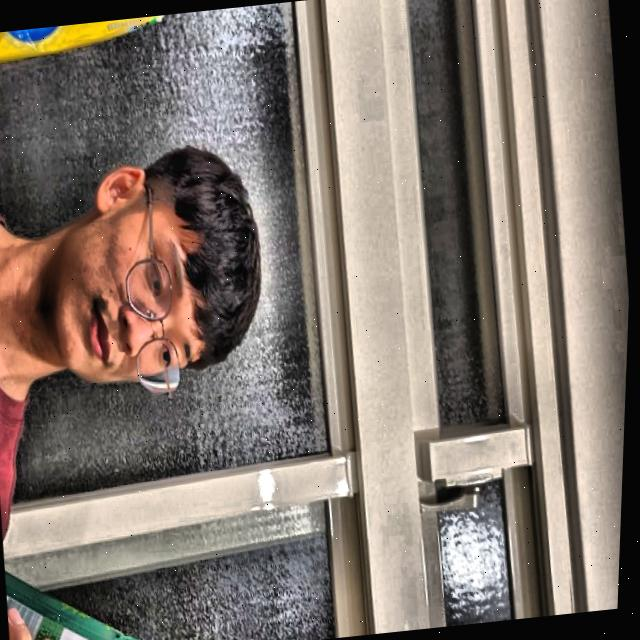plastic: (4, 539, 201, 640)
